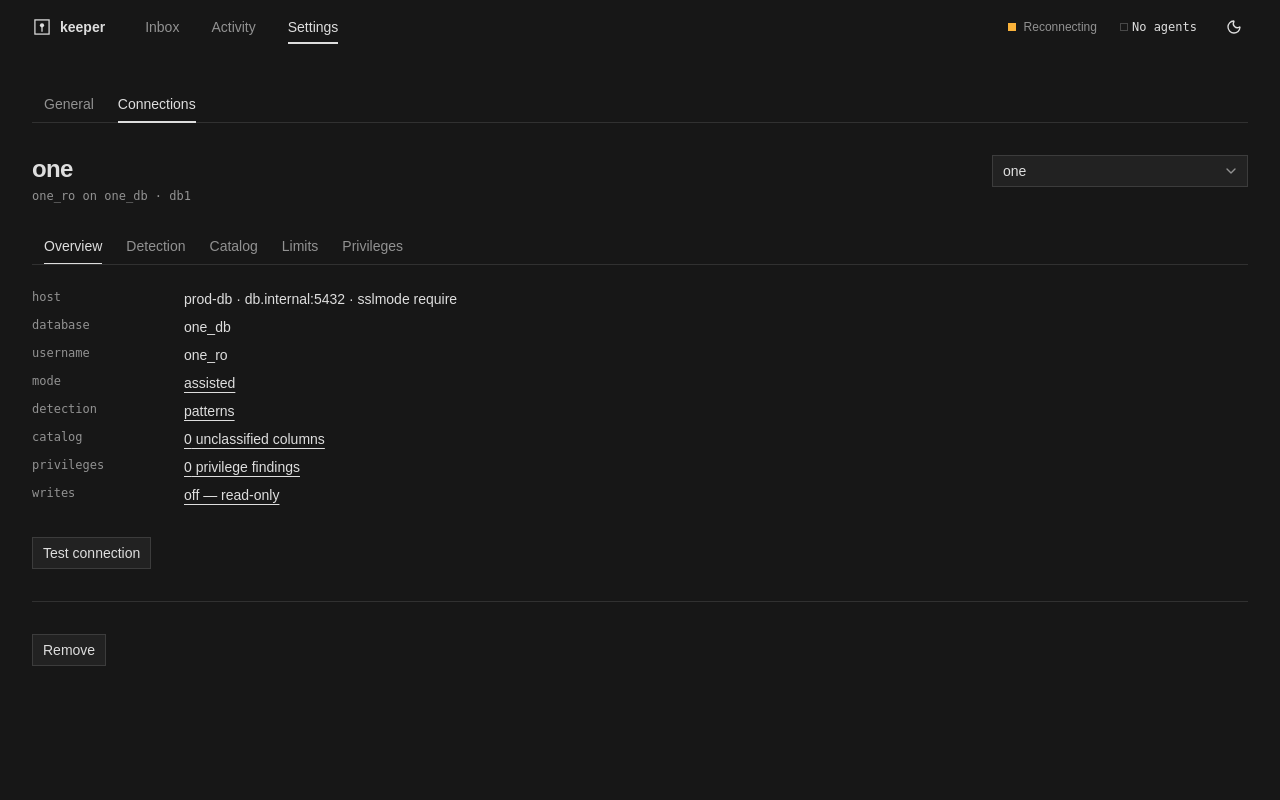
Test: connections without a status › LAZY-C5 no page shows reachability, and Test connection says who the account logged in as
(page scrolled)
Click the button "Test connection". click: {"x": 92, "y": 553}
box: [32, 537, 151, 569]
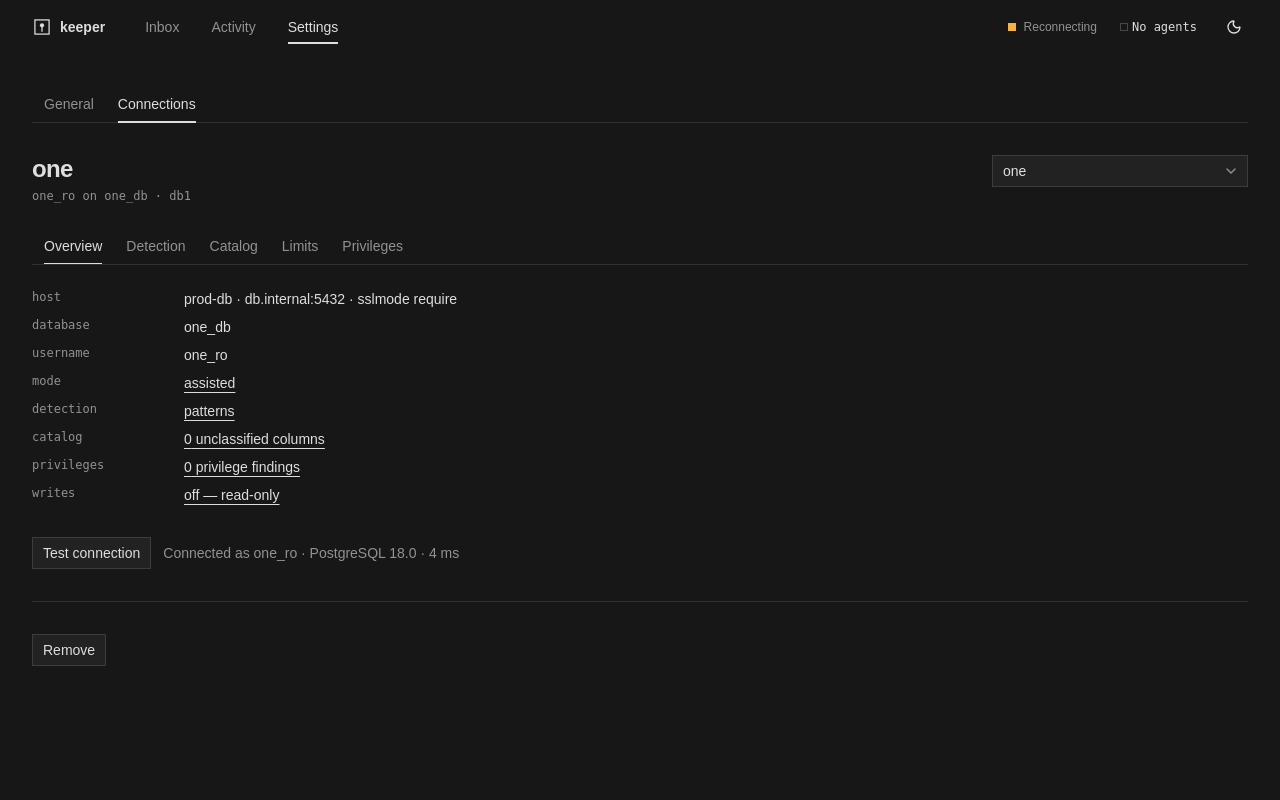
Expected: the text "Connected as one_ro · PostgreSQL 18.0 · 4 ms" is shown, [163, 543, 459, 563]
